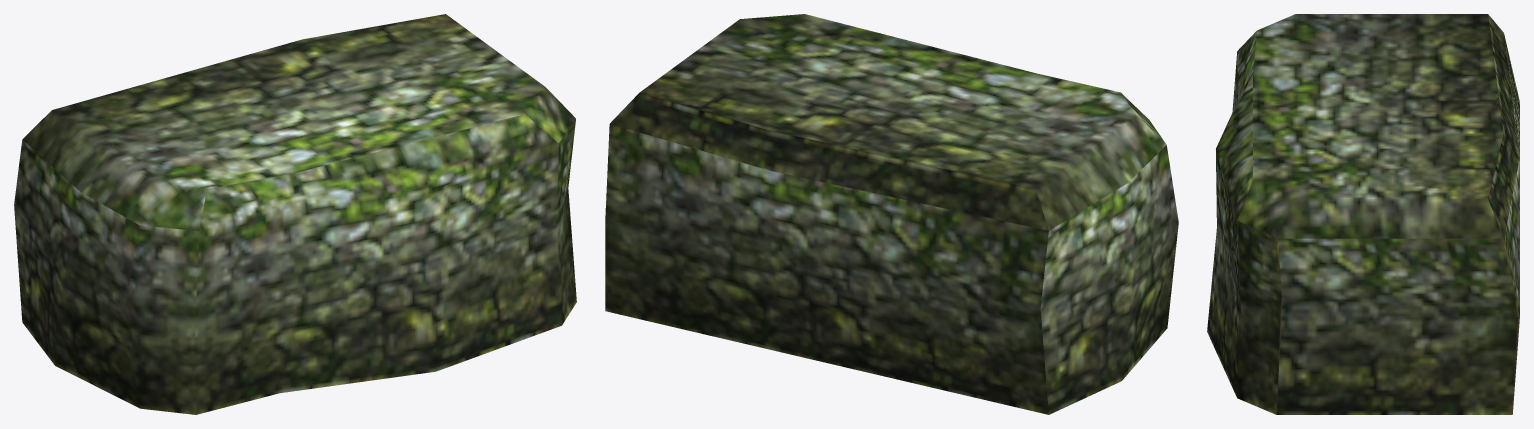
The model's file is Greenland_Stonewall02.FBX.
3 views of the same model, side by side, from view 1: azimuth 30°, elevation 25°; view 2: azimuth 150°, elevation 25°; view 3: azimuth 270°, elevation 25° (orthographic). The views are drawn at different scales.
Visible parts, largest first — view 1: Greenland_Stonewall02; view 2: Greenland_Stonewall02; view 3: Greenland_Stonewall02.
Part boxes in pixels (<box>): Greenland_Stonewall02: <box>14,14,576,414</box>; Greenland_Stonewall02: <box>605,14,1178,414</box>; Greenland_Stonewall02: <box>1207,14,1519,414</box>.
Size of the model in its own units: 151 by 67.49 by 92.33.
